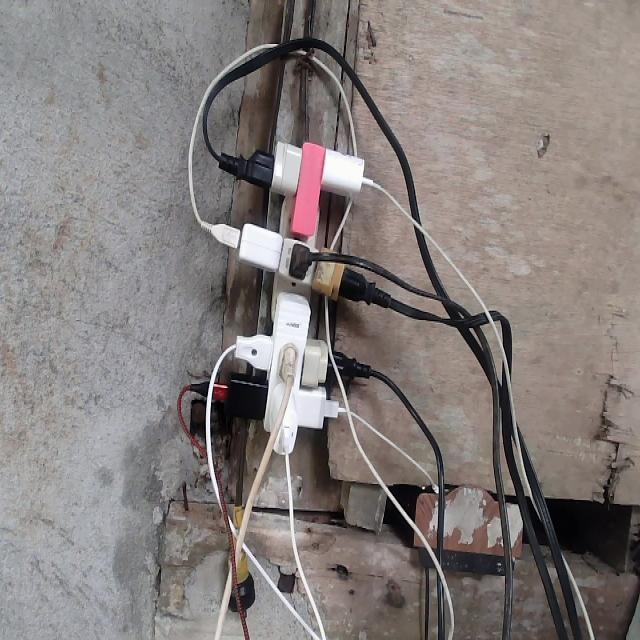-: (218, 138, 366, 458)
